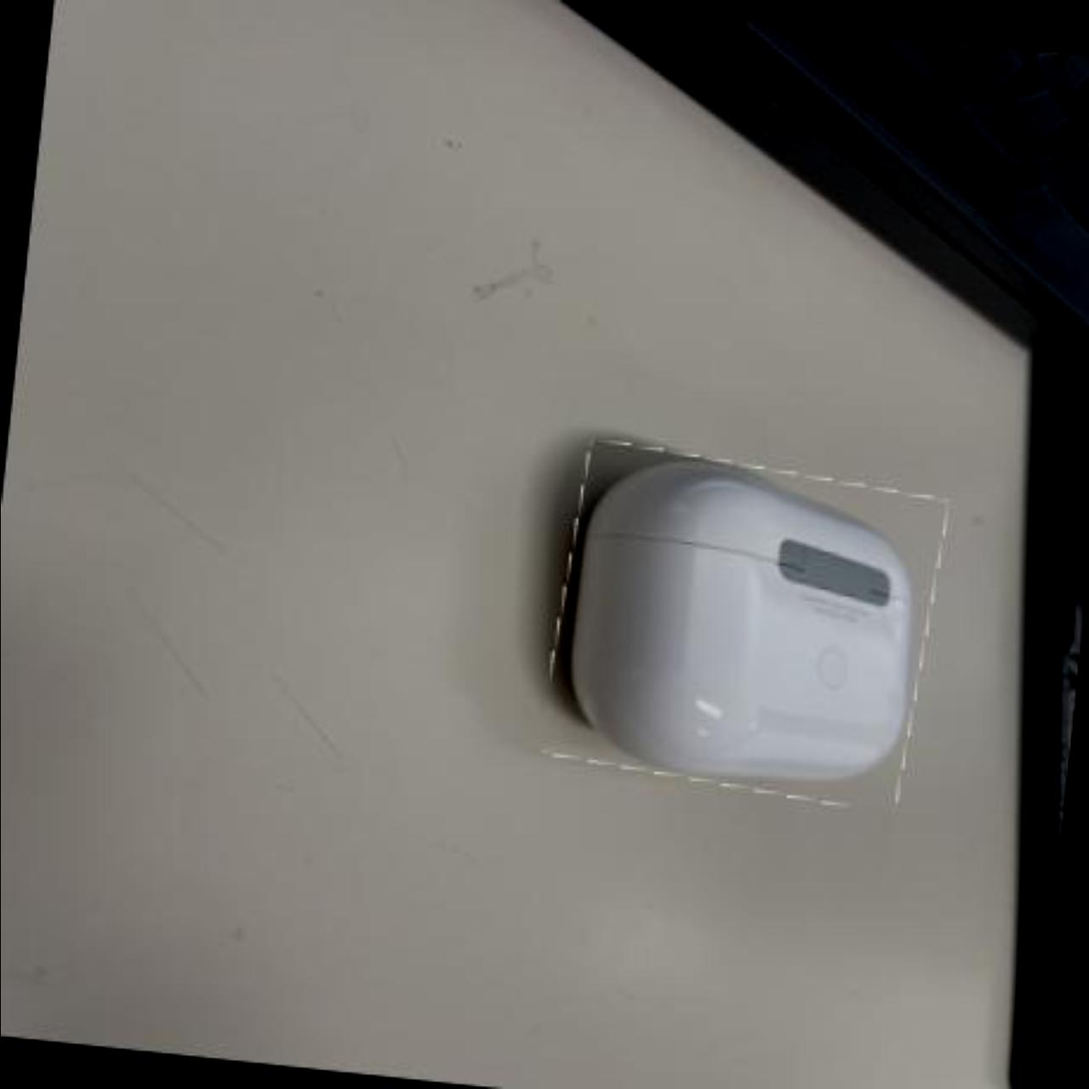AirPods: (542, 443, 946, 807)
